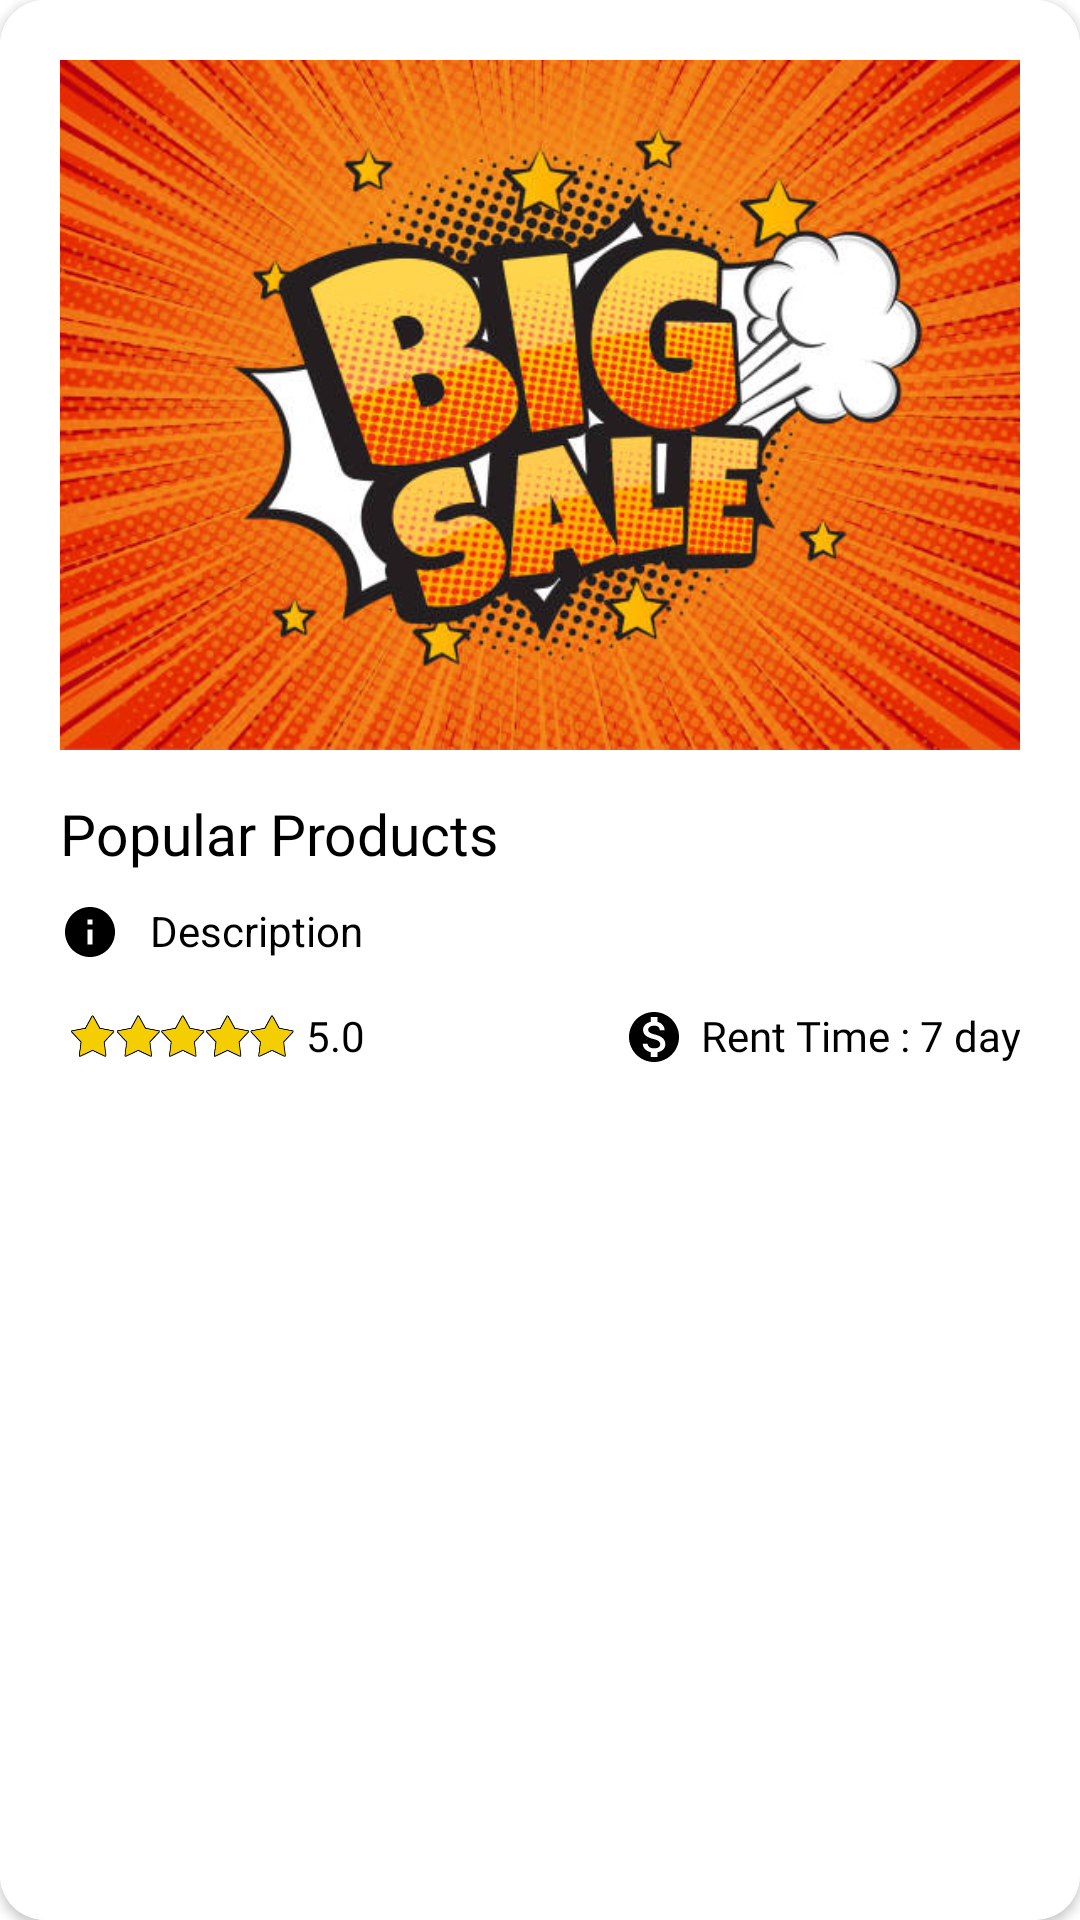

Named icons in this screenshot (1080px×1920px) and their bounding boxes, (x1, y1, x2, y2):
rating: (71, 1015, 294, 1057)
